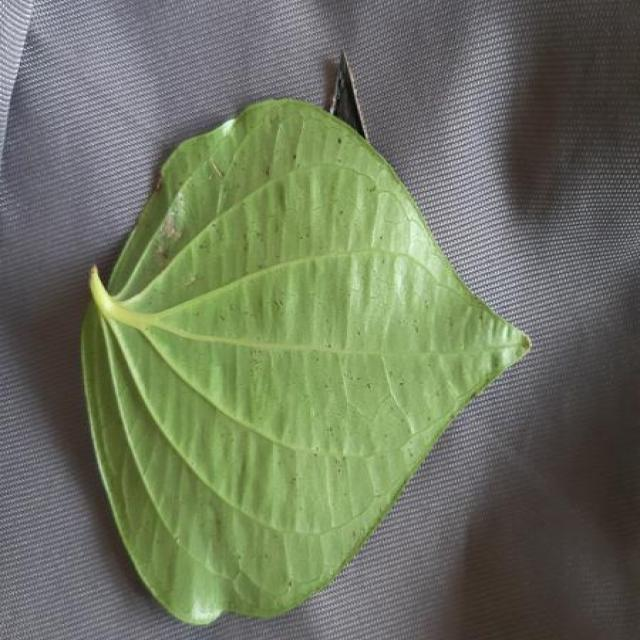betel: (82, 99, 530, 623)
